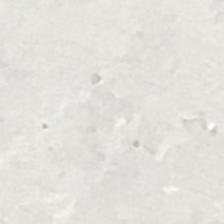Non_Crack: (19, 23, 186, 196)
